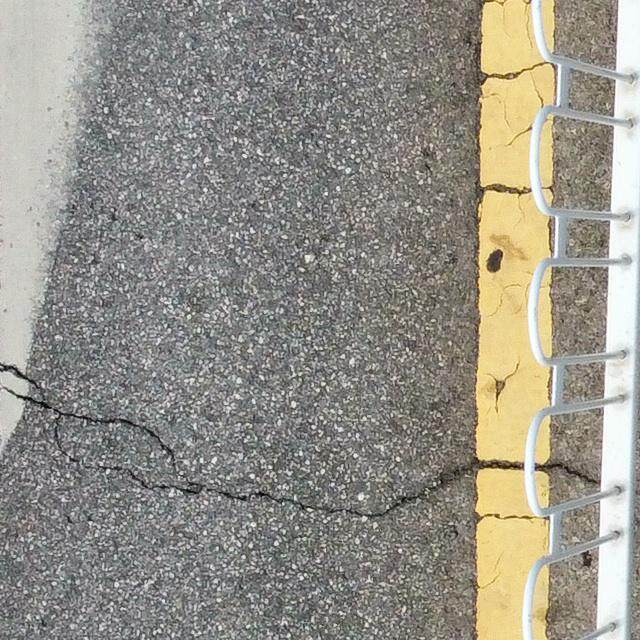TransverseCrack: (1, 362, 601, 518)
